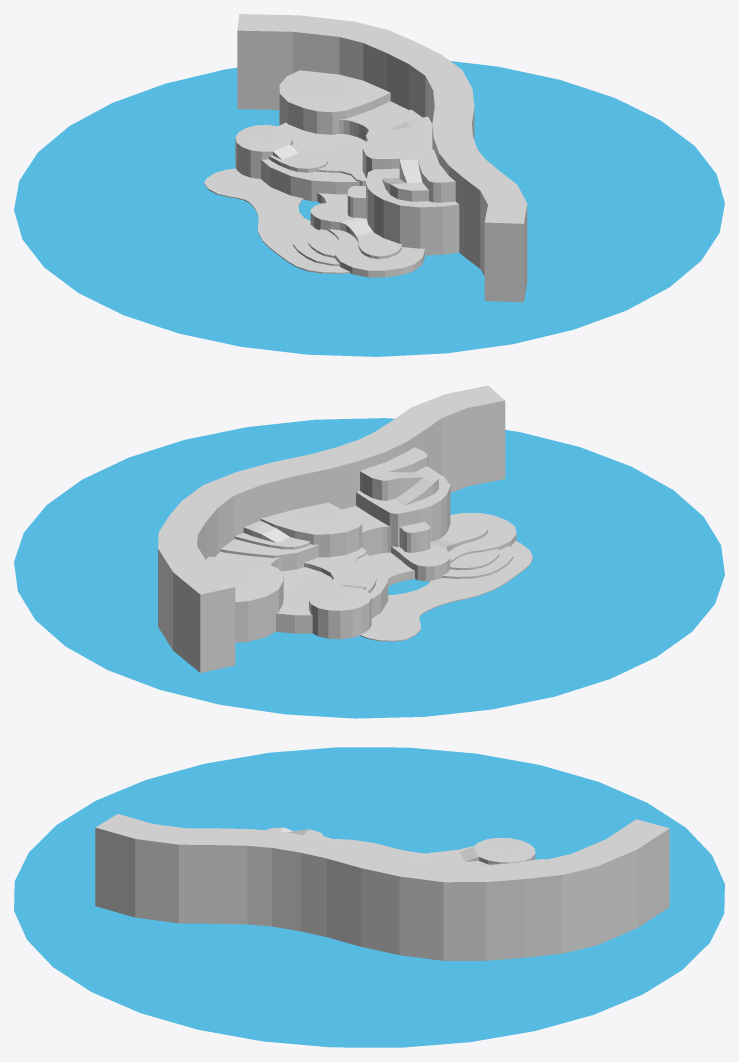
File: testLevel_Terrain.fbx
The picture shows the model from 3 angles, top to bottom: view 1: azimuth 30°, elevation 25°; view 2: azimuth 150°, elevation 25°; view 3: azimuth 270°, elevation 25°; orthographic projection.
Parts seen in each view (by area): view 1: Circle, Cube.018, Cube.017, Cube.013, Cube.002, Cube.008, Cube.020, Cube, Cube.009, Cube.003, Cube.016, Cube.006 (+5 smaller); view 2: Circle, Cube.018, Cube.002, Cube.013, Cube.016, Cube.008, Cube.020, Cube.009, Cube.017, Cube.003, Cube, Cube.014 (+9 smaller); view 3: Circle, Cube.018, Cube.009, Cube.002, Cube.011.
Part boxes in pixels (x1,y1,x2,y2): Circle: (14, 61, 724, 356); Cube.018: (237, 14, 527, 302); Cube.017: (366, 168, 459, 255); Cube.013: (279, 70, 390, 134); Cube.002: (204, 168, 350, 273); Cube.008: (261, 122, 365, 201); Cube.020: (382, 149, 455, 202); Cube: (328, 228, 424, 277); Cube.009: (235, 124, 298, 178); Cube.003: (310, 202, 401, 259); Cube.016: (362, 124, 432, 177); Cube.006: (338, 101, 408, 140); Circle: (14, 418, 724, 718); Cube.018: (158, 385, 505, 672); Cube.002: (360, 541, 532, 641); Cube.013: (206, 556, 283, 642); Cube.016: (260, 502, 362, 557); Cube.008: (276, 554, 388, 633); Cube.020: (360, 447, 438, 505); Cube.009: (309, 584, 371, 639); Cube.017: (356, 473, 450, 547); Cube.003: (391, 521, 487, 581); Cube: (448, 513, 516, 562); Cube.014: (220, 539, 318, 571); Circle: (14, 747, 724, 1047); Cube.018: (95, 814, 669, 960); Cube.009: (459, 837, 535, 864); Cube.002: (333, 839, 473, 859); Cube.011: (426, 850, 489, 865).
Size of the model in its own units: 56407 by 8185 by 56407.
